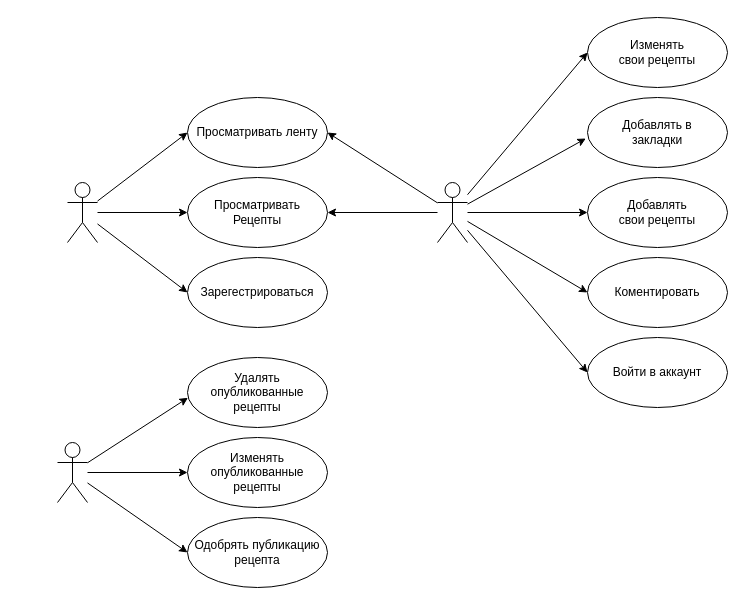
Some shapes in this 745 by 605 pixel diagram are drawn without their labels. The box of each missing label's shape, as (x1, y1, x2, y2) in pixels:
Администратор: (56, 442, 88, 502)
Зарегестрированный пользователь: (436, 182, 468, 242)
Незарегестрированный пользователь: (66, 182, 98, 242)
